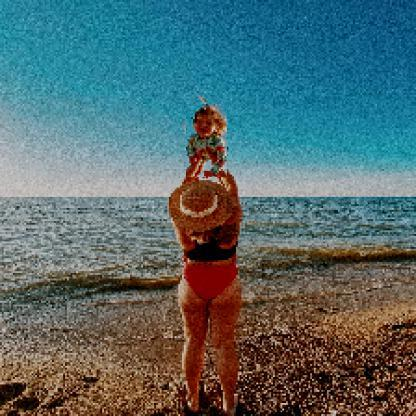child: (187, 105, 229, 179)
